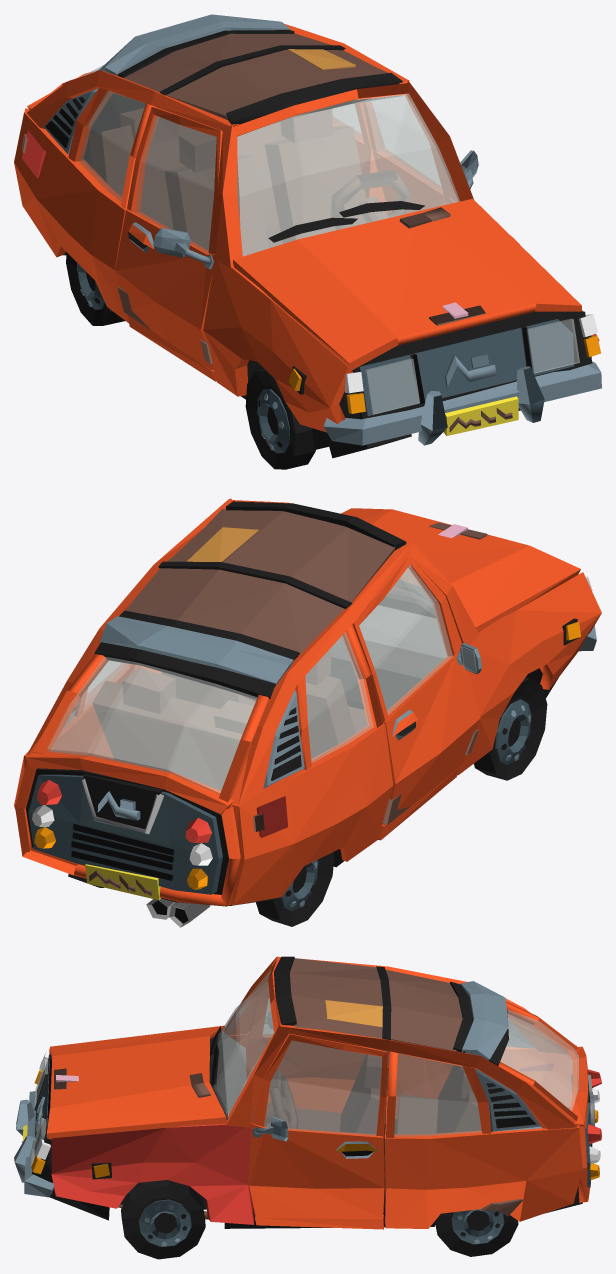
Rendered from car.dae.
The picture shows the model from 3 angles, top to bottom: view 1: azimuth 30°, elevation 25°; view 2: azimuth 150°, elevation 25°; view 3: azimuth 270°, elevation 25°; orthographic projection. The views are drawn at different scales.
Visible parts, largest first — view 1: car1; view 2: car1; view 3: car1.
Part boxes in pixels (x1,y1,x2,y2): car1: (14,14,601,469); car1: (14,498,601,927); car1: (14,956,601,1259).
Size of the model in its own units: 0.5053 by 0.4381 by 0.995.
